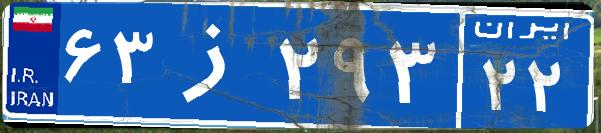2: (273, 28, 330, 110), (475, 38, 525, 113), (525, 38, 570, 115)
3: (385, 28, 445, 110), (110, 28, 158, 105)
6: (57, 26, 110, 107)
9: (330, 28, 385, 110)
ز: (158, 15, 273, 115)
